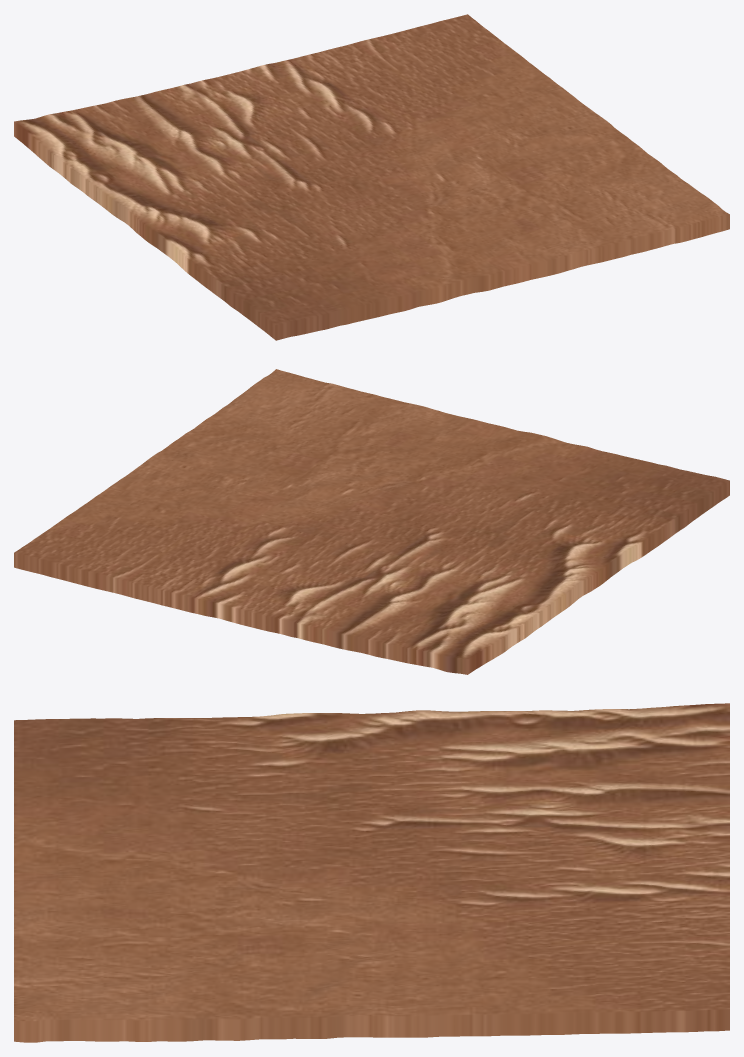
3 renders of one model, top to bottom at view 1: azimuth 30°, elevation 25°; view 2: azimuth 150°, elevation 25°; view 3: azimuth 270°, elevation 25°, orthographic. The views are drawn at different scales.
Visible parts, largest first — view 1: L6_28_3; view 2: L6_28_3; view 3: L6_28_3.
Boxes of the visible parts, <box> form: L6_28_3: <box>14,14,729,340</box>; L6_28_3: <box>14,369,729,674</box>; L6_28_3: <box>14,703,729,1042</box>.
Bounding box in the file's own units: 225 × 13.86 × 225.
Materials: 1 (1 with a texture image).
